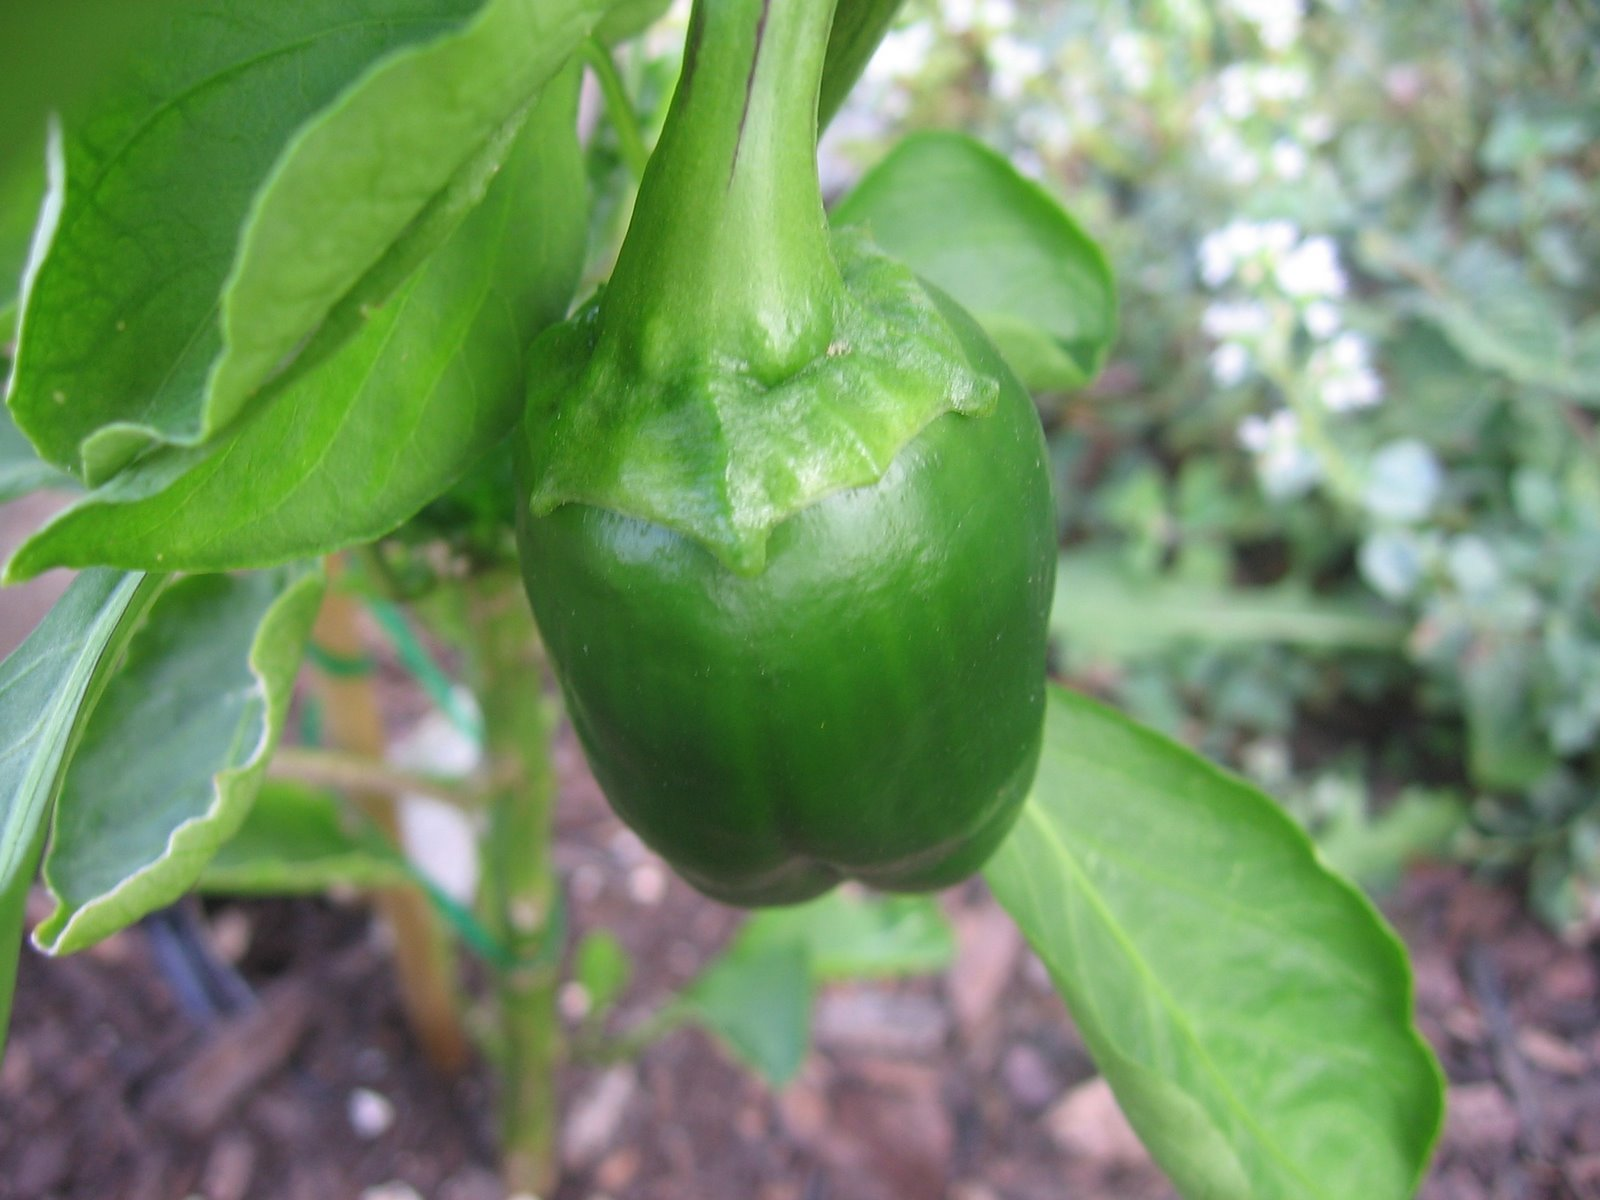capsicum: (510, 6, 1053, 913)
